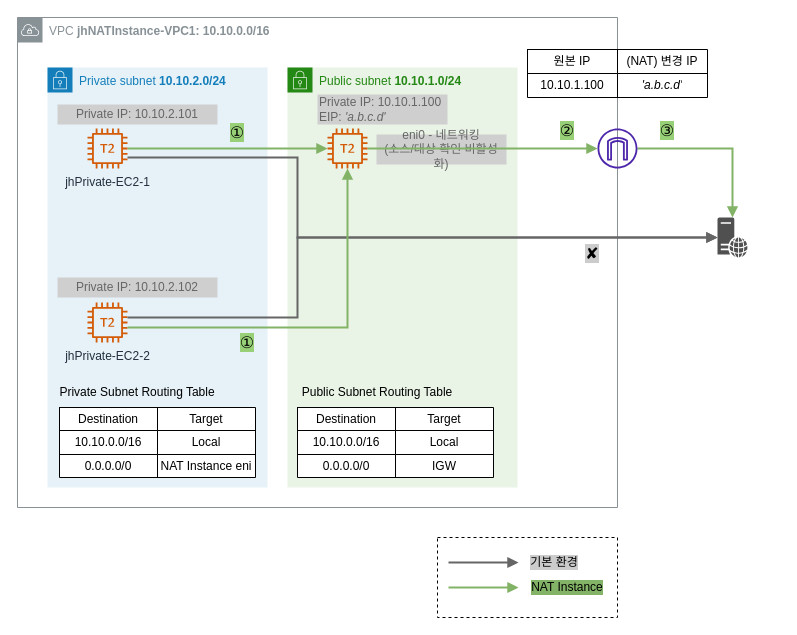
Image size: 797x635. Some labels were removed from this diagram. The shapes that lost their labels are listed below. From the top down, each one's centre as x and y in pixels, then its label:
(347,148): jhNAT-Instance (IP-Port 변환)
(617,148): Internet Gateway (IP 변환) NAT
(732,237): 외부 인터넷 웹서버
